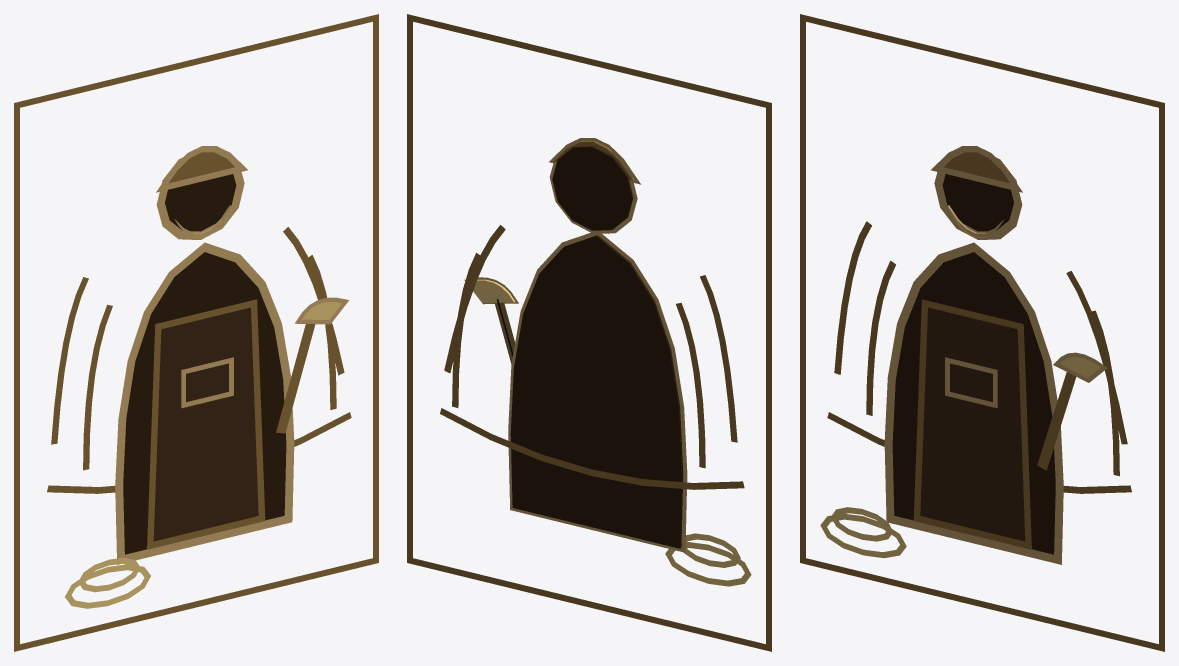
Rendered from npc-korabel.glb.
The picture shows the model from 3 angles, left to right: view 1: azimuth 30°, elevation 25°; view 2: azimuth 150°, elevation 25°; view 3: azimuth 330°, elevation 25°; orthographic projection.
Parts seen in each view (by area): view 1: npc-korabel; view 2: npc-korabel; view 3: npc-korabel.
Boxes of the visible parts, bbox=[...] form: npc-korabel: bbox=[14, 14, 378, 651]; npc-korabel: bbox=[407, 14, 771, 651]; npc-korabel: bbox=[800, 14, 1164, 651].
Bounding box in the file's own units: 1.14 × 1.64 × 0.09.
